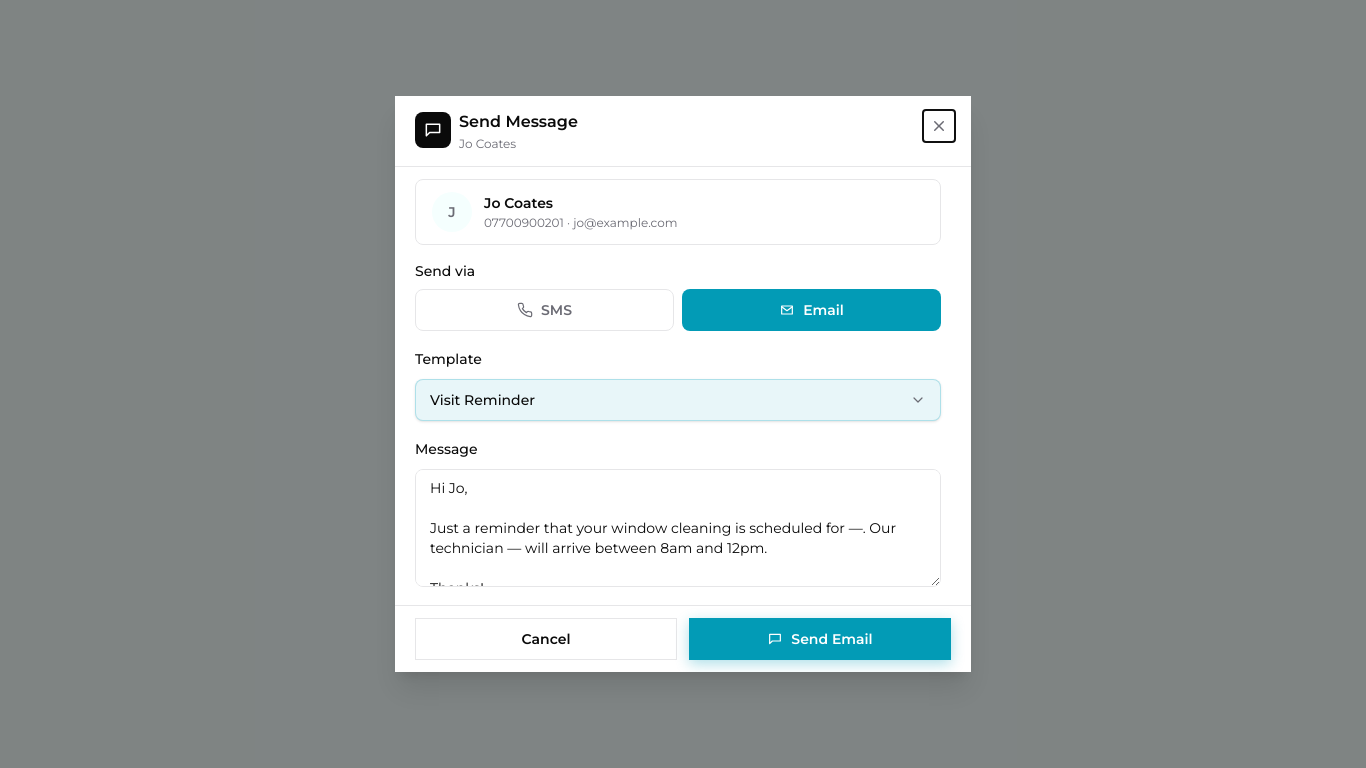
SendPropertyMessageModal channels (Wave 2B-2) › shows the plain reason when the channel is unavailable on send
Click the button "Send Email". click: (820, 639)
box: [689,618,951,660]
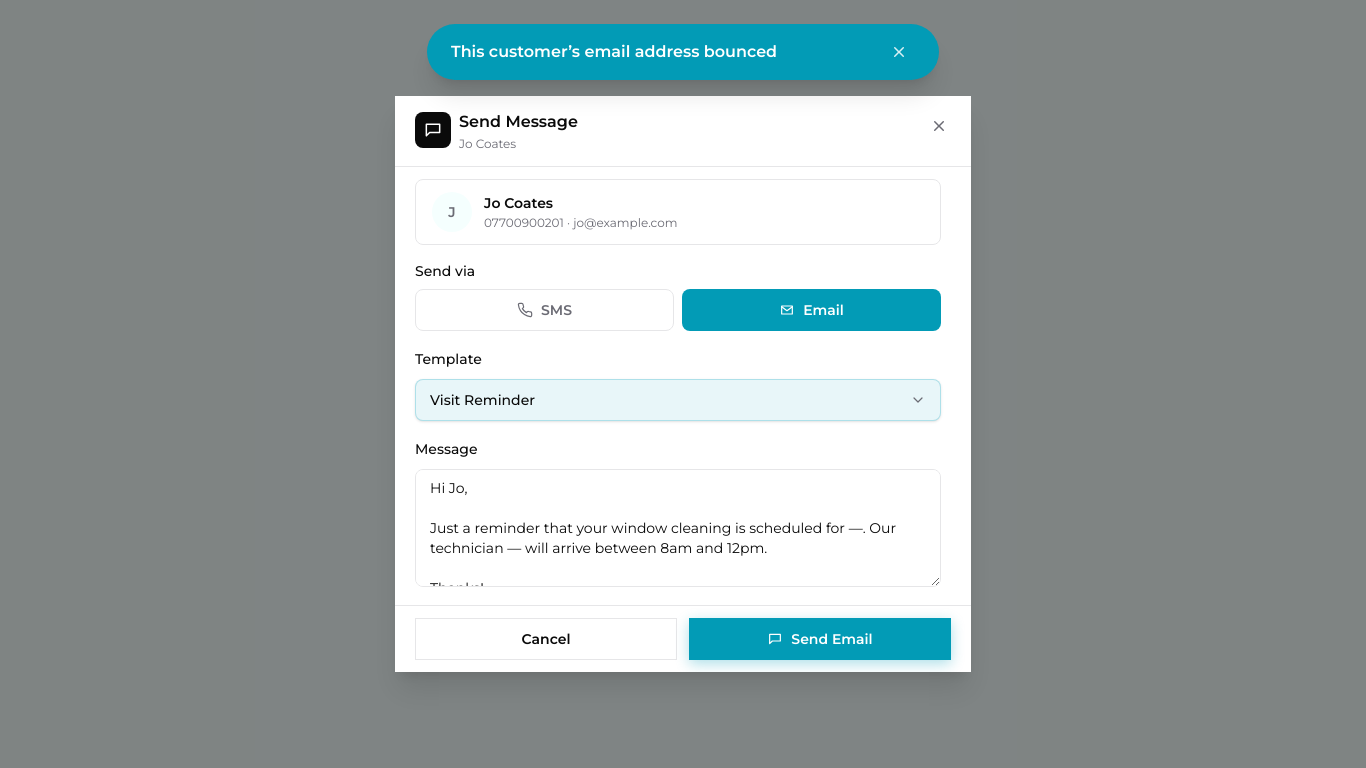
Check: the text "This customer’s email address bounced" is shown, box [451,40,777,64]
